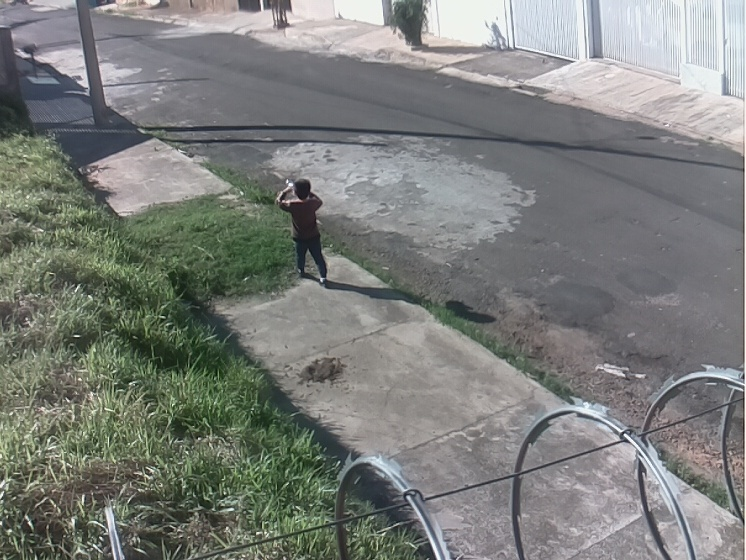person: (275, 177, 329, 290)
